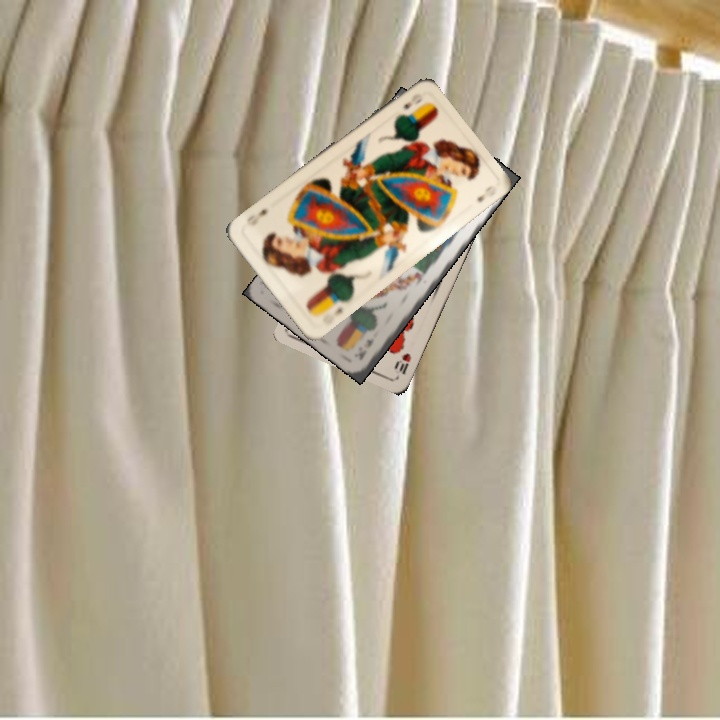EK: (352, 335, 377, 363)
EO: (318, 295, 346, 327), (399, 89, 425, 112)
H10: (392, 349, 414, 377)
